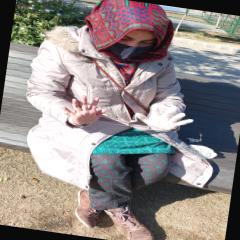gloved: (134, 103, 194, 134)
not-gloved: (59, 92, 107, 128)
